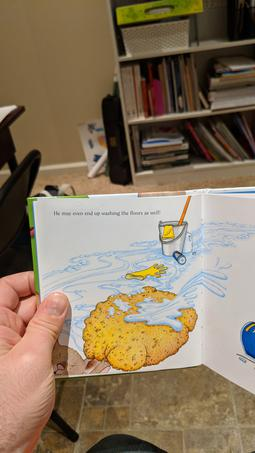text block: (42, 205, 163, 217)
